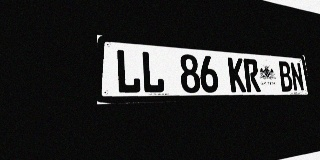6: (199, 55, 219, 93)
8: (179, 54, 201, 93)
B: (278, 61, 293, 92)
K: (227, 57, 246, 92)
L: (115, 49, 141, 94), (141, 51, 165, 93)
N: (290, 62, 305, 91)
R: (243, 58, 261, 92)
